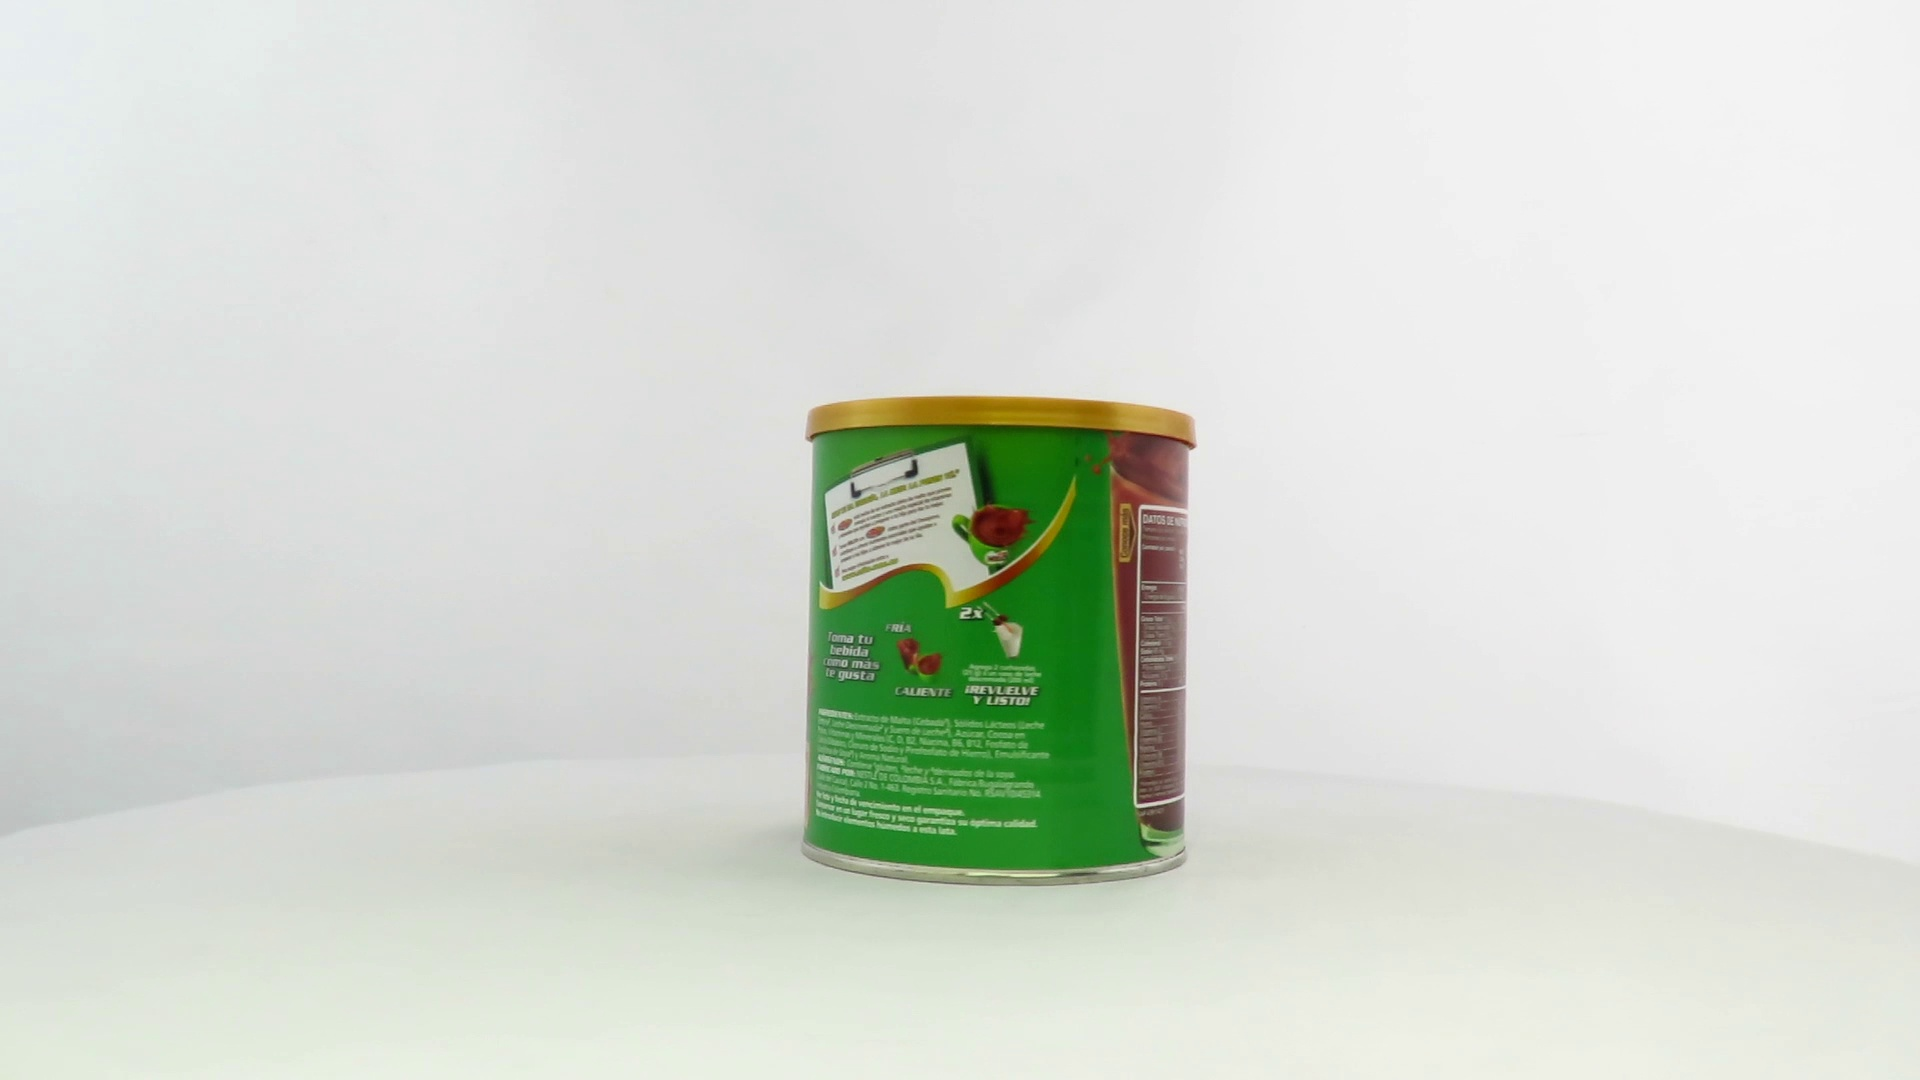COL0170203LAT40000: (795, 392, 1203, 893)
